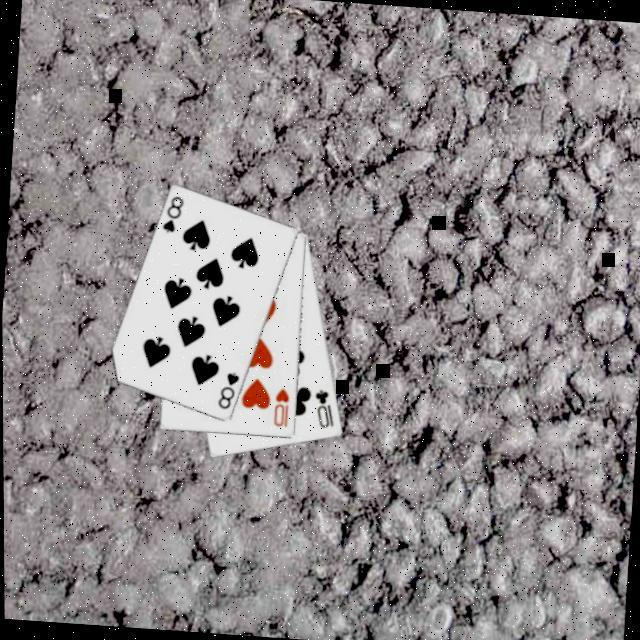10C: (311, 384, 340, 430)
10H: (272, 382, 294, 428)
8S: (215, 365, 244, 411), (159, 190, 188, 234)
